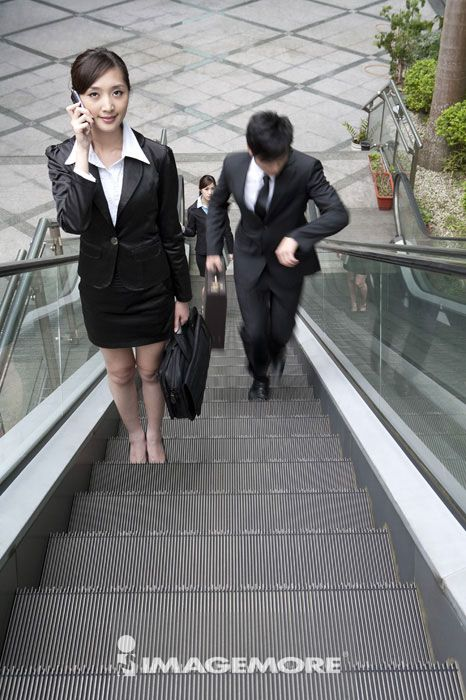talk: (65, 83, 127, 150)
